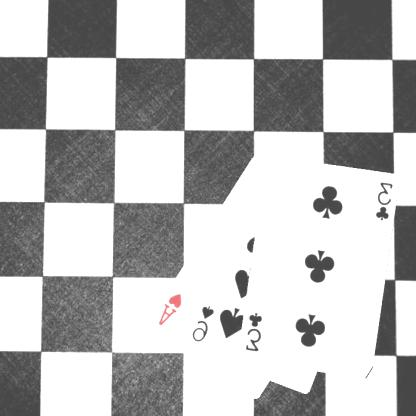3C: (374, 180, 396, 223), (244, 310, 265, 353)
9S: (191, 303, 217, 343)
AH: (157, 290, 185, 327)
